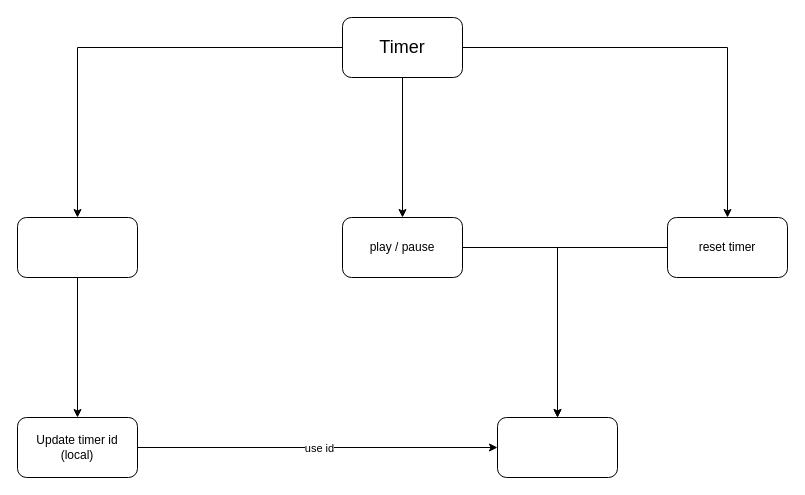
This 805x495 diagram has some shape labels left out. The shapes that lost their labels are listed below. From the top down, each one's centre as x and y in pixels, then its label:
At point (77, 247): "change timer".
At point (557, 447): "Update timer time (db)".
